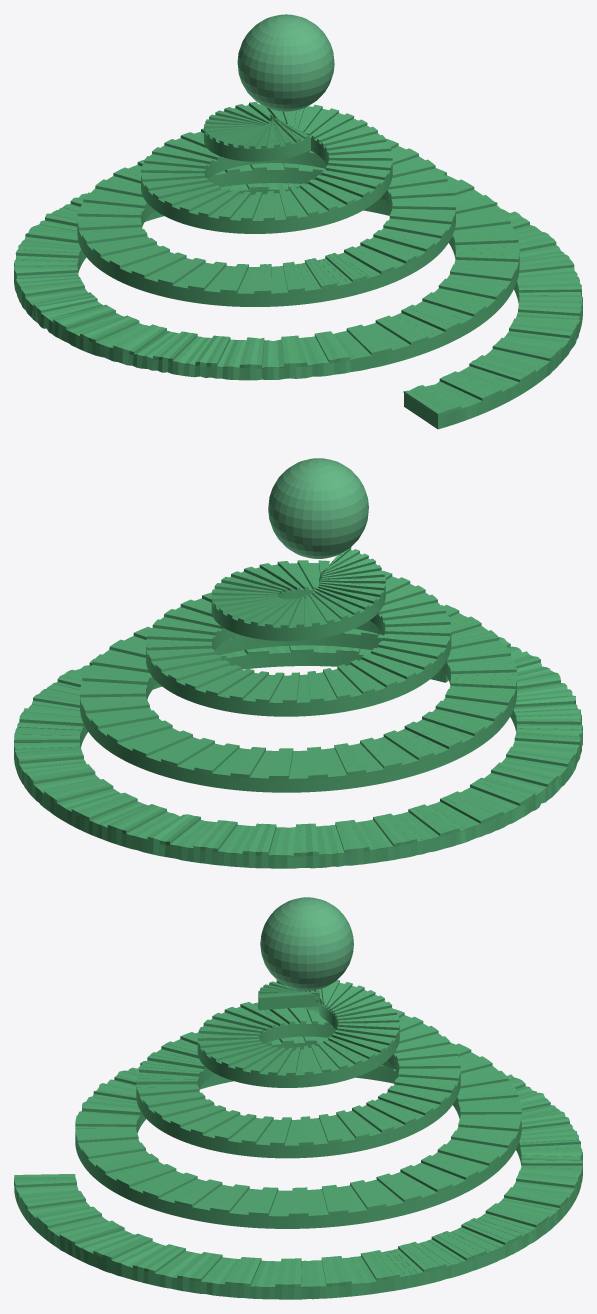
The model's file is board.glb.
3 views of the same model, one above another, from view 1: azimuth 30°, elevation 25°; view 2: azimuth 150°, elevation 25°; view 3: azimuth 270°, elevation 25° (orthographic). The views are drawn at different scales.
Visible parts, largest first — view 1: Cube, Sphere; view 2: Cube, Sphere; view 3: Cube, Sphere.
Part boxes in pixels (left/top/right/bottom): Cube: left=14, top=102, right=582, bottom=429; Sphere: left=237, top=14, right=334, bottom=111; Cube: left=14, top=547, right=582, bottom=868; Sphere: left=268, top=458, right=368, bottom=558; Cube: left=14, top=980, right=582, bottom=1299; Sphere: left=260, top=897, right=353, bottom=990.
Bounding box in the file's own units: 201 × 119 × 212.
